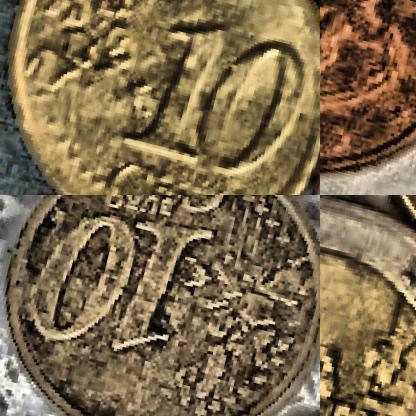coin: (0, 195, 319, 415), (0, 0, 319, 194), (320, 195, 415, 415), (320, 0, 415, 194)
